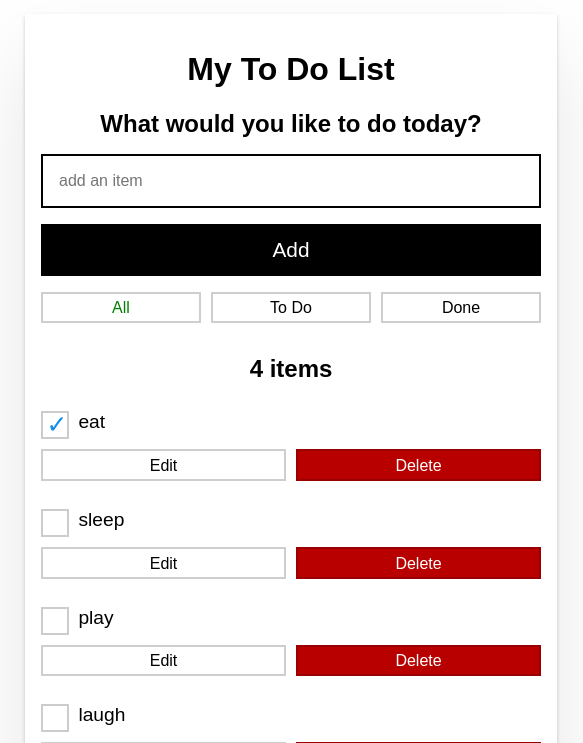
Scenario: Todo list Test › should save edit and cancel edit
The width and height of the screenshot is (583, 743).
Click the button "Edit" below "sleep" at x=164, y=563, box [41,547,286,579]
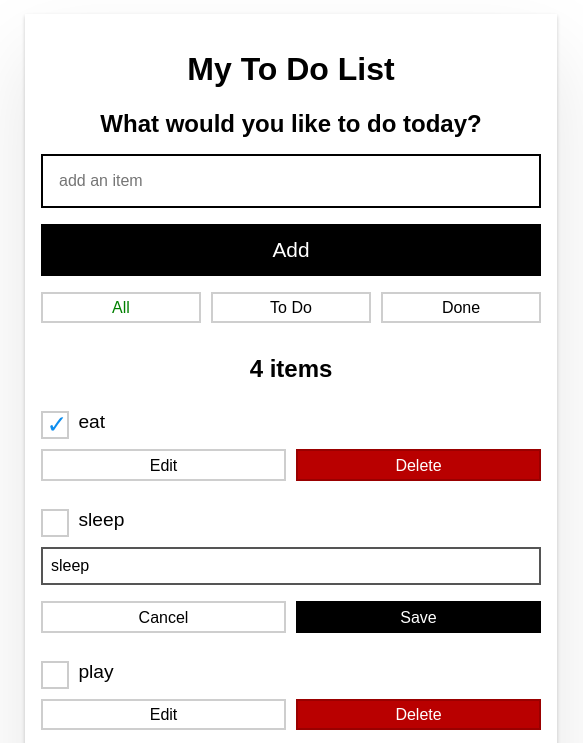
Replace the text in the field with class "sm-text-input" with "nap" at x=291, y=566, box [41,547,541,585]
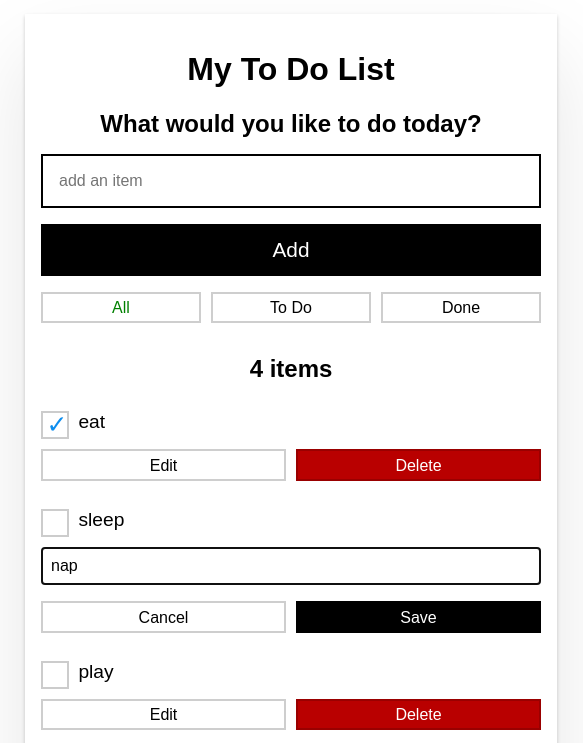
Click the button "Cancel" at x=164, y=617, box [41,601,286,633]
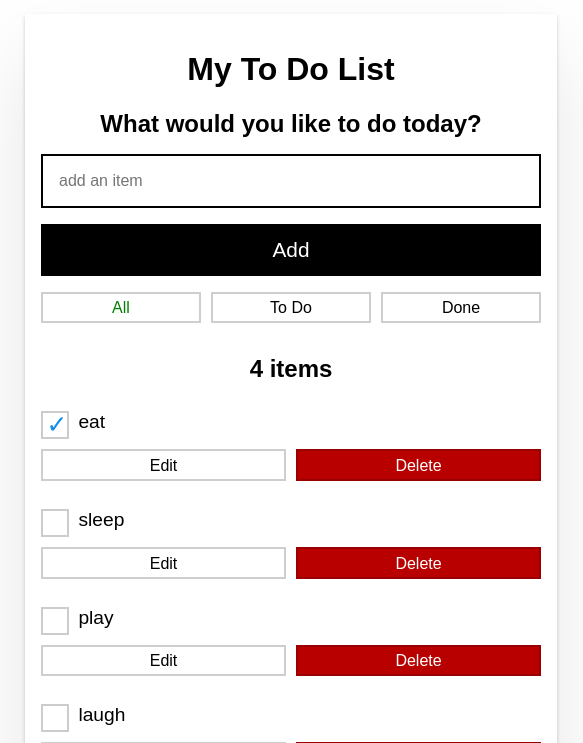
Expected: the text "sleep" is shown, [78,509,124,530]
Click the button "Edit" below "sleep" at x=164, y=563, box [41,547,286,579]
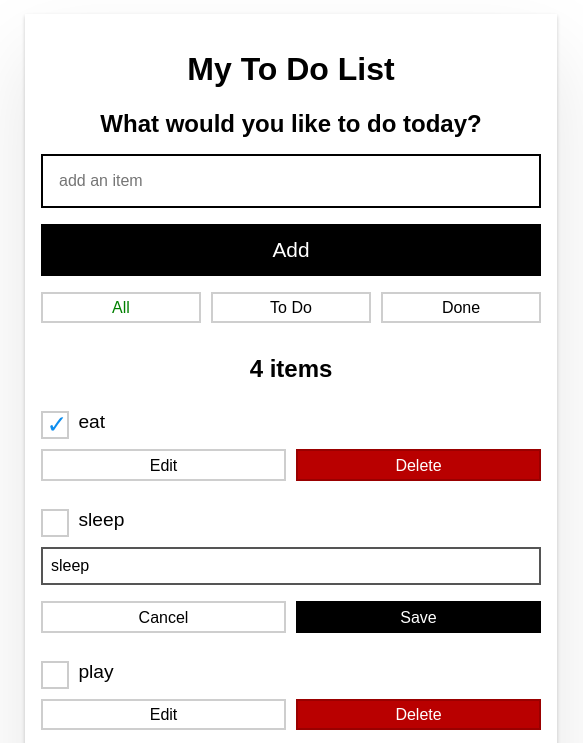
Replace the text in the field with class "sm-text-input" with "nap" at x=291, y=566, box [41,547,541,585]
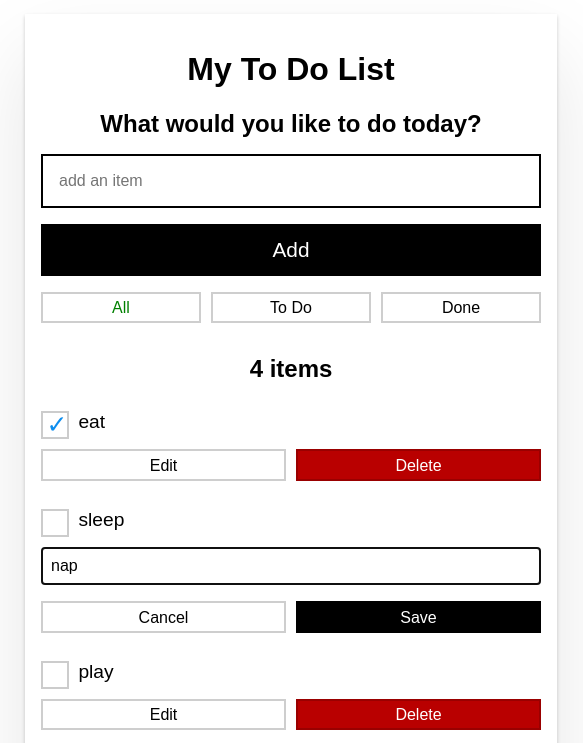
Click the button "Save" at x=419, y=617, box [296,601,541,633]
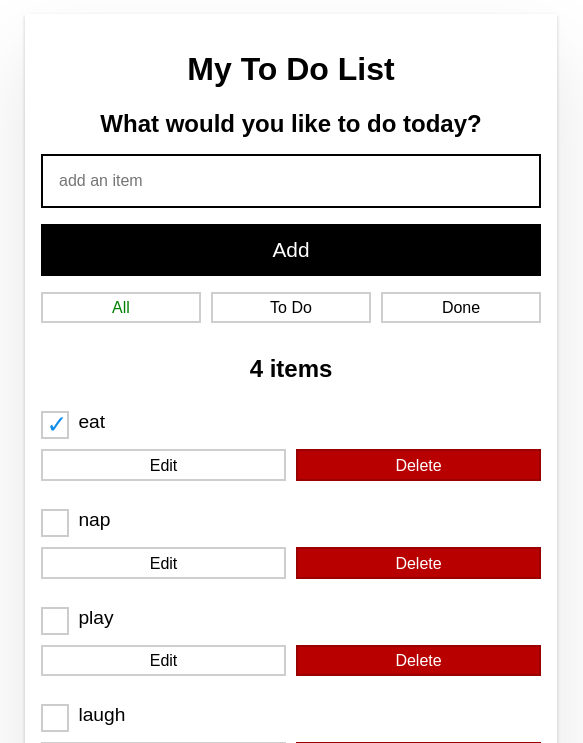
Now the text "nap" is shown, box [78,509,110,530]
